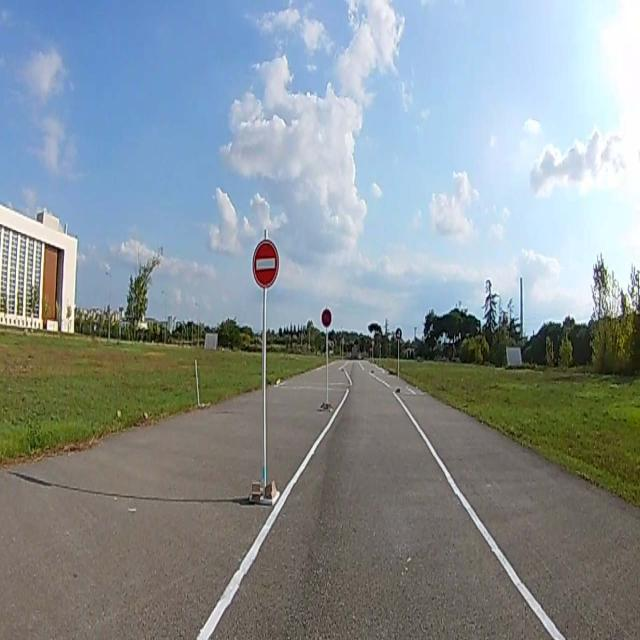girisyok: (252, 239, 278, 288)
